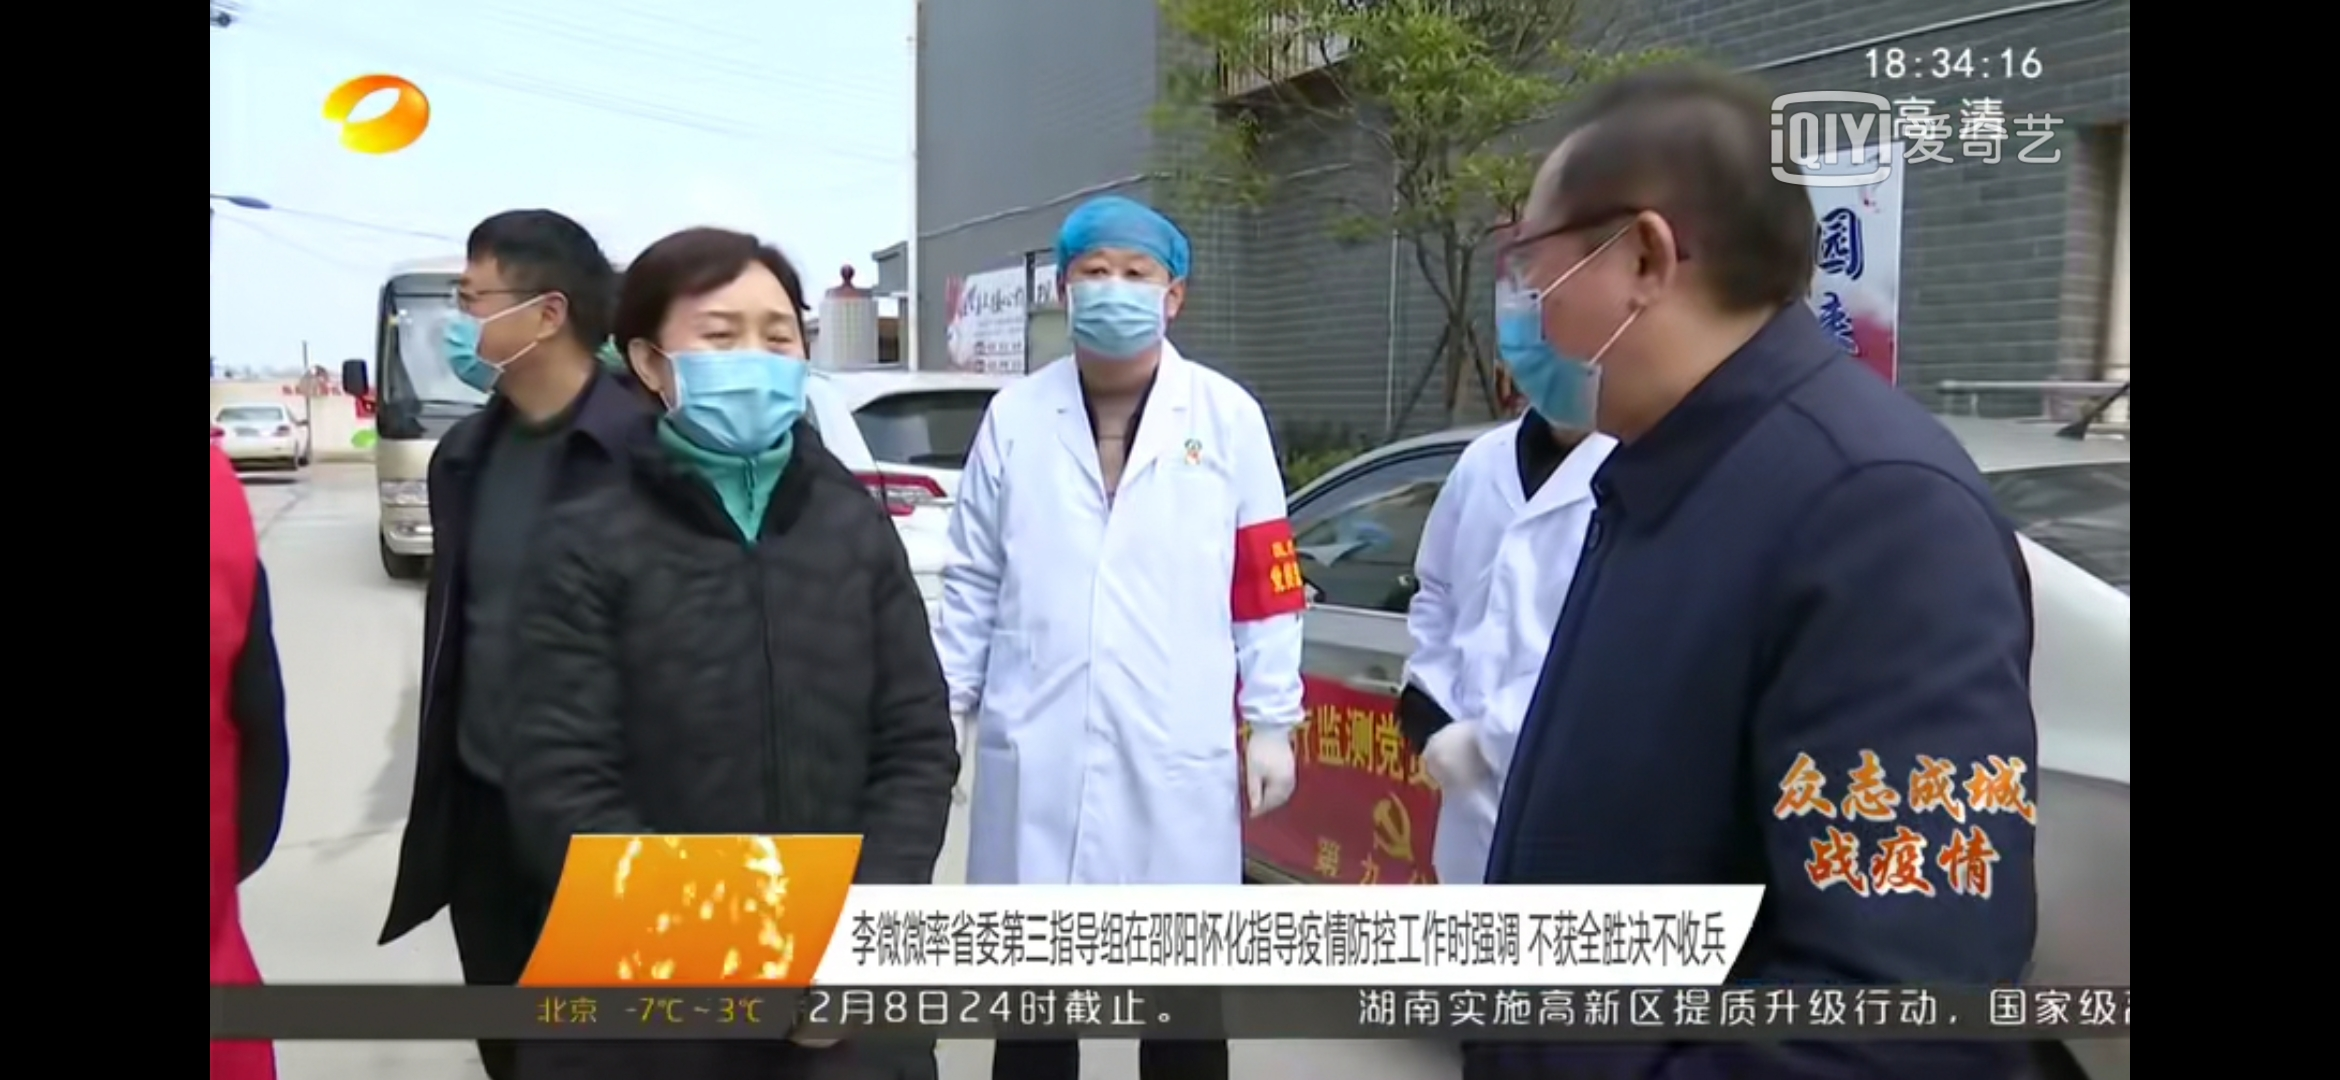correctlyWear: (1482, 204, 1688, 442), (622, 297, 807, 456), (433, 263, 572, 391), (1049, 245, 1186, 354)
